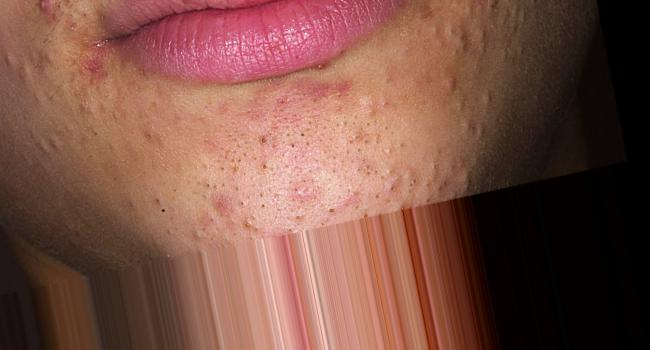Acne: (191, 144, 276, 213), (434, 20, 491, 94), (316, 91, 365, 162), (33, 0, 54, 15)
